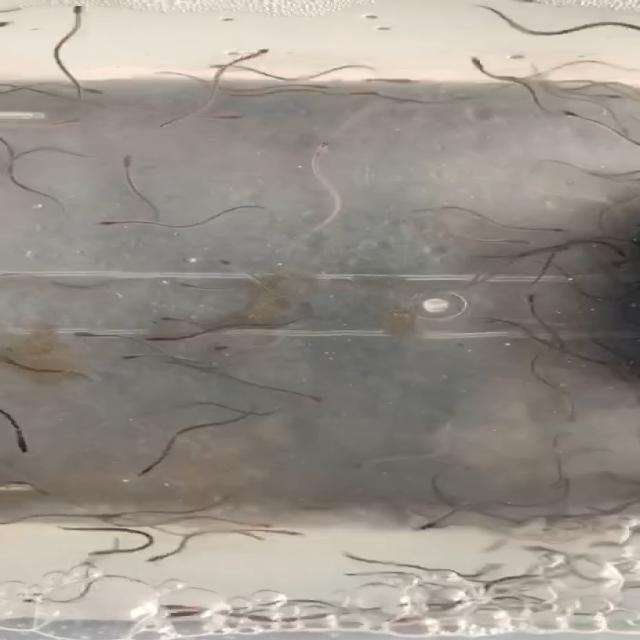active_glass_eel: (386, 610, 438, 630), (300, 137, 340, 162), (463, 54, 499, 80), (40, 113, 89, 132), (236, 42, 280, 63), (0, 478, 52, 495), (131, 458, 175, 478), (151, 599, 203, 615), (56, 5, 92, 27), (117, 150, 145, 176), (67, 328, 122, 341), (550, 107, 594, 123), (146, 548, 181, 568), (402, 520, 443, 537), (10, 435, 40, 458), (152, 610, 197, 625), (202, 59, 244, 75), (226, 517, 274, 531), (288, 78, 334, 92), (494, 234, 536, 249), (171, 277, 213, 292), (202, 112, 258, 123), (604, 364, 635, 383), (92, 217, 134, 231), (17, 595, 59, 609), (147, 312, 188, 326), (66, 84, 106, 98), (118, 351, 161, 364), (137, 332, 176, 346), (592, 90, 632, 103), (210, 342, 247, 356), (75, 549, 121, 559), (535, 226, 580, 236), (384, 76, 428, 86), (519, 292, 541, 310), (216, 258, 241, 273), (559, 409, 578, 426), (616, 245, 638, 259)
